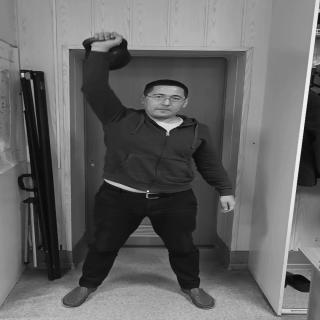kettlebell: (83, 37, 132, 72)
